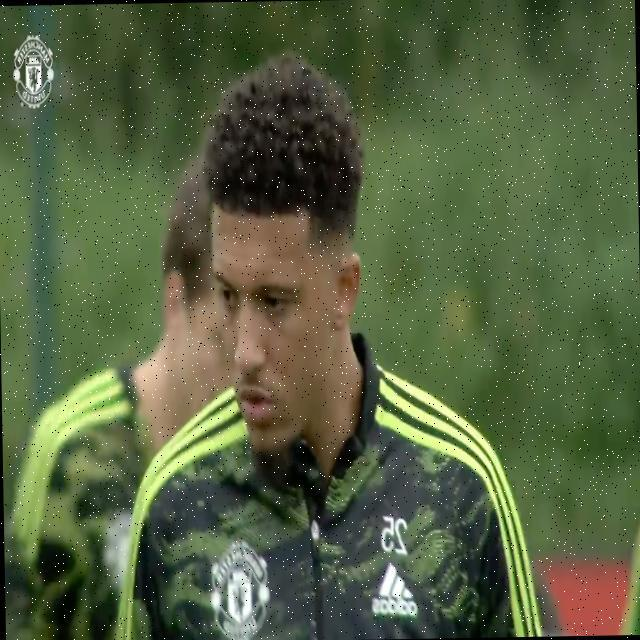Adidas: (368, 559, 419, 618)
